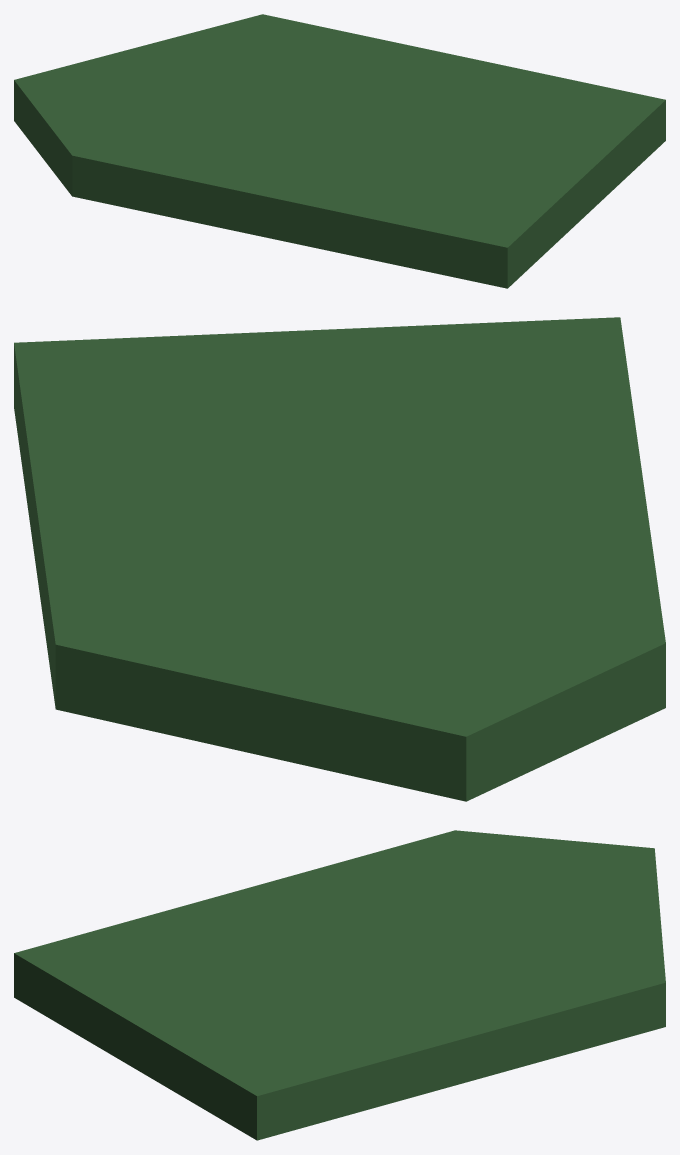
The model's file is x_proval_00_152_1_rmstrd.fbx.
3 renders of one model, top to bottom at view 1: azimuth 30°, elevation 25°; view 2: azimuth 150°, elevation 25°; view 3: azimuth 270°, elevation 25°, orthographic. The views are drawn at different scales.
Parts seen in each view (by area): view 1: x_proval_00_152_1_rmstrd1; view 2: x_proval_00_152_1_rmstrd1; view 3: x_proval_00_152_1_rmstrd1.
Part boxes in pixels (left/top/right/bottom): x_proval_00_152_1_rmstrd1: left=14, top=14, right=665, bottom=288; x_proval_00_152_1_rmstrd1: left=14, top=317, right=665, bottom=801; x_proval_00_152_1_rmstrd1: left=14, top=830, right=665, bottom=1140.
Bounding box in the file's own units: 2.57 × 0.2 × 2.66.
